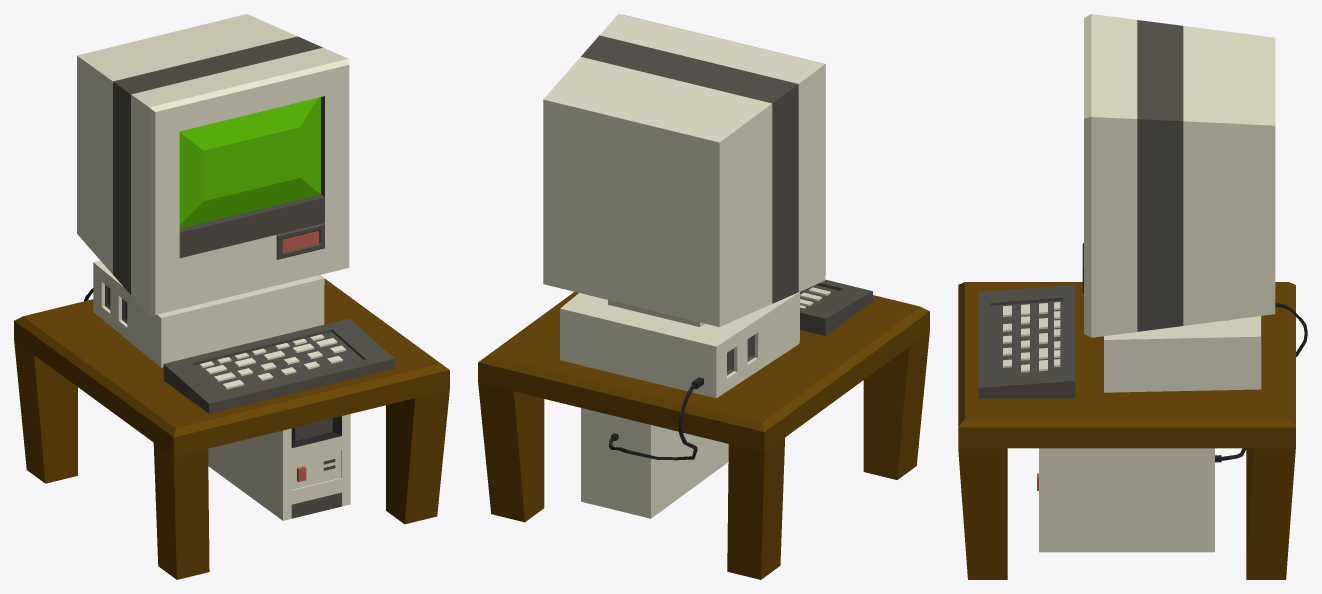
File: Computer.fbx
3 views of the same model, side by side, from view 1: azimuth 30°, elevation 25°; view 2: azimuth 150°, elevation 25°; view 3: azimuth 270°, elevation 25° (orthographic). The views are drawn at different scales.
Parts seen in each view (by area): view 1: Computer, Table, Computer.001, Keyboard.001, Computer.002, ComputerCase, Computer.004, Keyboard.002, ComputerCase.005, ComputerCase.001; view 2: Computer, Table, Computer.002, ComputerCase, Keyboard.001, Cable; view 3: Computer, Table, ComputerCase, Computer.002, Keyboard.001, Keyboard.002, Cable.
Boxes of the visible parts, x1,y1,x2,y2 form: Computer: [77, 14, 349, 367]; Table: [14, 275, 449, 579]; Computer.001: [179, 97, 320, 228]; Keyboard.001: [163, 318, 394, 413]; Computer.002: [105, 36, 324, 323]; ComputerCase: [208, 414, 350, 520]; Computer.004: [179, 197, 324, 258]; Keyboard.002: [199, 334, 345, 389]; ComputerCase.005: [291, 492, 341, 518]; ComputerCase.001: [291, 416, 341, 447]; Computer: [543, 14, 825, 398]; Table: [478, 292, 929, 579]; Computer.002: [581, 35, 798, 375]; ComputerCase: [581, 408, 728, 518]; Keyboard.001: [800, 279, 872, 335]; Cable: [609, 377, 703, 460]; Computer: [1084, 14, 1275, 392]; Table: [958, 282, 1295, 579]; ComputerCase: [1039, 448, 1214, 552]; Computer.002: [1082, 20, 1183, 331]; Keyboard.001: [978, 285, 1075, 398]; Keyboard.002: [1003, 302, 1060, 372]; Cable: [1215, 301, 1307, 462].
Size of the model in its own units: 90.12 by 132 by 93.3.
